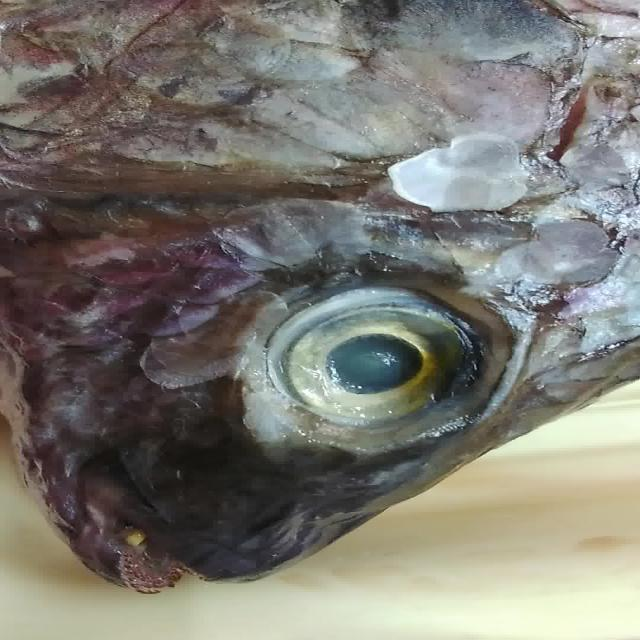Non-Fresh: (71, 16, 597, 266), (277, 281, 478, 449)
